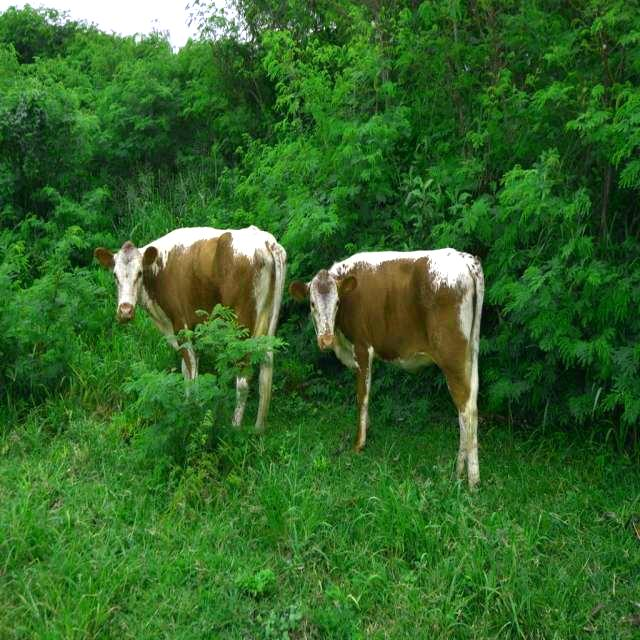COW: (290, 249, 484, 486), (95, 226, 286, 379), (256, 351, 272, 427)
